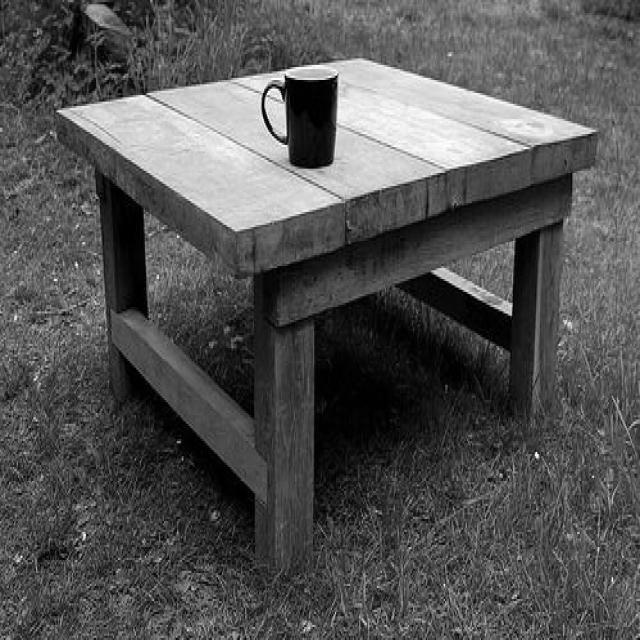table: (57, 54, 598, 570)
